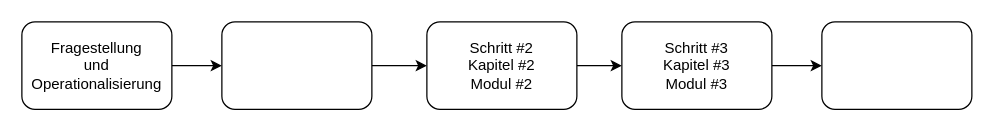
The diagram is 994 pixels wide and 131 high, and some of its shapes have lost their labels. Each missing label, with the centre of its shape:
Schritt #1 Kapitel #1 Modul #1: [296,65]
Schritt #n Kapitel #n Modul #n: [896,65]
